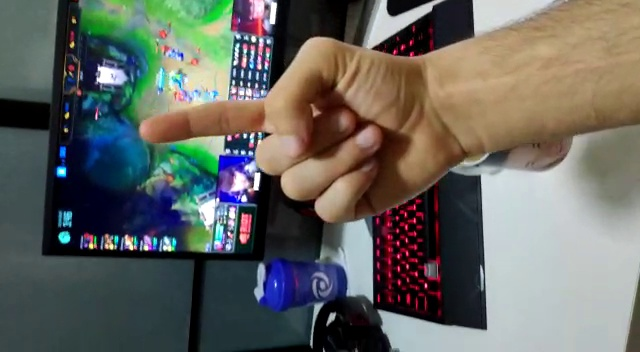One: (134, 45, 438, 191)
